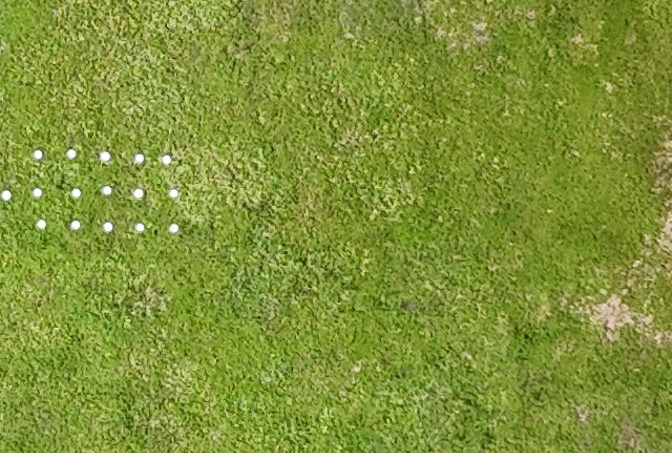bowl: (133, 188, 144, 199), (1, 190, 11, 201), (36, 219, 47, 229), (66, 149, 77, 159), (100, 152, 110, 162), (103, 222, 113, 232), (163, 154, 172, 165), (34, 150, 43, 160), (33, 188, 42, 198), (72, 188, 81, 198), (71, 220, 80, 230), (135, 223, 145, 232), (135, 154, 145, 163), (169, 224, 179, 233), (103, 186, 112, 195), (170, 189, 178, 198)
